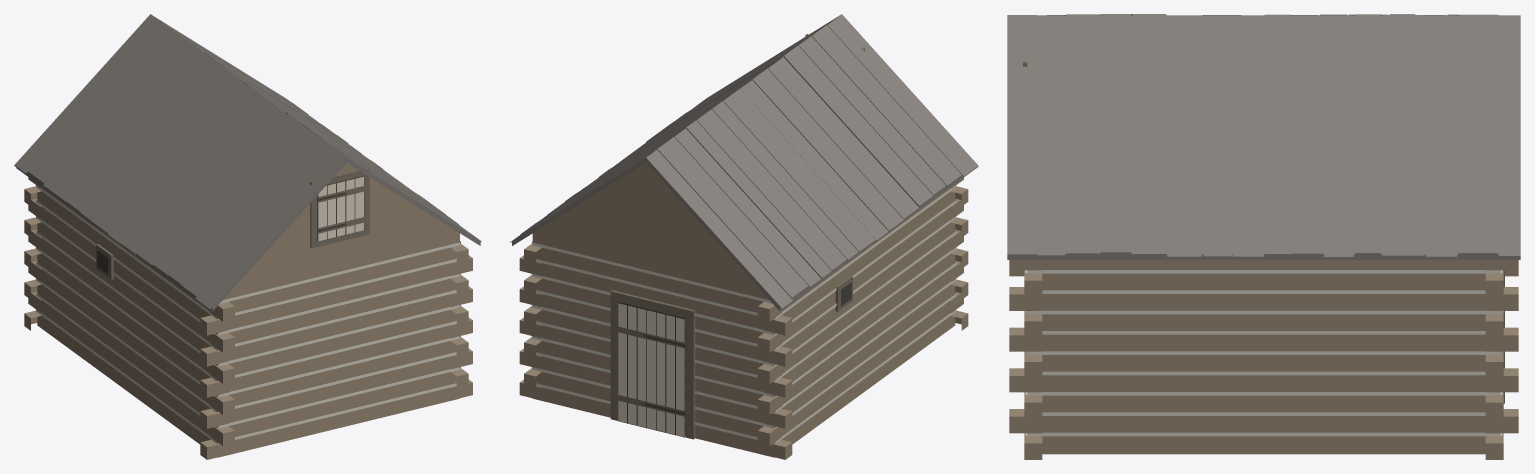
Rendered from recon_1835_blk_washington_market_a1_02__inferred_1835.glb.
3 views of the same model, side by side, from view 1: azimuth 30°, elevation 25°; view 2: azimuth 150°, elevation 25°; view 3: azimuth 270°, elevation 25° (orthographic). The views are drawn at different scales.
Parts seen in each view (by area): view 1: recon_1835_blk_washington_market_a1_02__inferred_1835; view 2: recon_1835_blk_washington_market_a1_02__inferred_1835; view 3: recon_1835_blk_washington_market_a1_02__inferred_1835.
Part boxes in pixels (x1,y1,x2,y2): recon_1835_blk_washington_market_a1_02__inferred_1835: (14,14,481,459); recon_1835_blk_washington_market_a1_02__inferred_1835: (510,14,978,459); recon_1835_blk_washington_market_a1_02__inferred_1835: (1007,14,1520,459).
Size of the model in its own units: 5.49 by 5.33 by 6.83.
